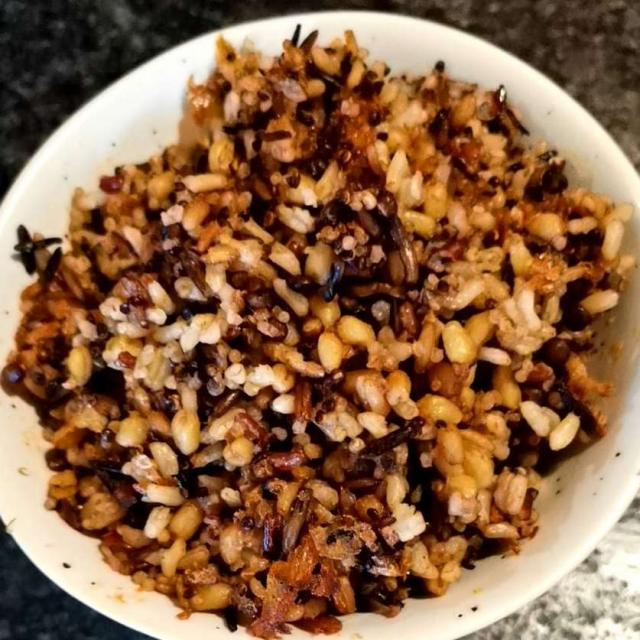rice-whole-grain: (26, 35, 615, 619)
